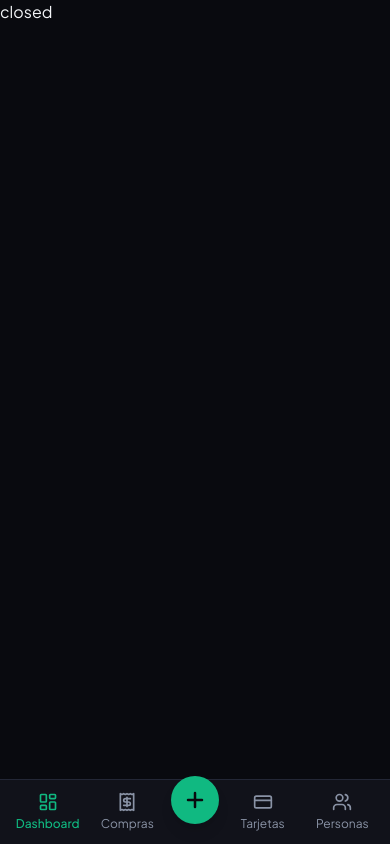
Test: Navigation Triggers Connection (Spec 004 T9) › opens QuickExpenseDrawer when prominent + button in BottomNav is clicked
Expected: the text with test id "context-is-open" reads "closed", x1=0 y1=1 x2=52 y2=22
Click the button named "registrar nueva compra compartida" at (195, 800), box x1=171 y1=776 x2=219 y2=824
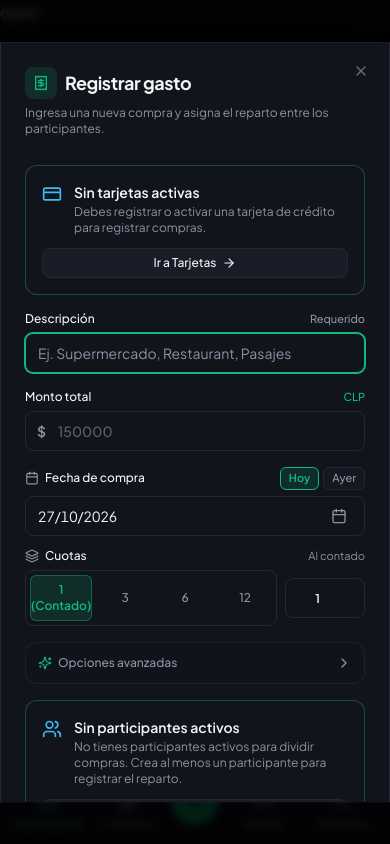
Result: the text with test id "context-is-open" reads "open" at x1=0 y1=1 x2=40 y2=22
Result: the heading "Registrar gasto" is shown at x1=25 y1=67 x2=191 y2=99
